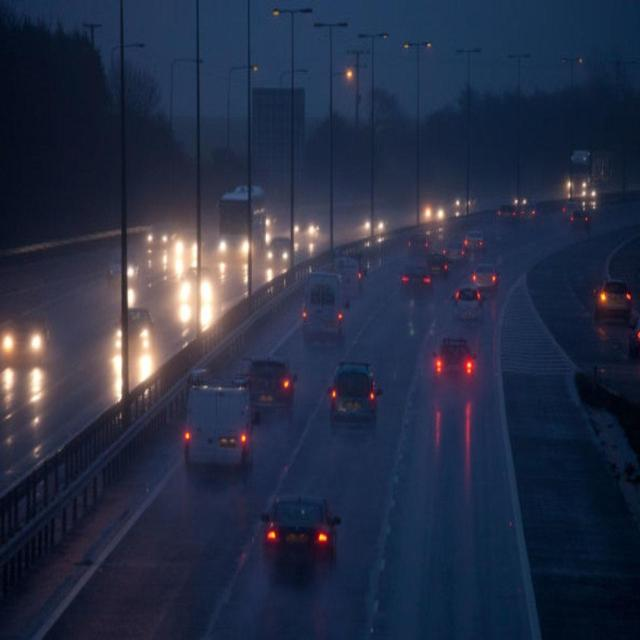Bus: (214, 181, 268, 265), (568, 146, 594, 198)
Car: (263, 482, 337, 592), (324, 358, 381, 428), (241, 352, 296, 415), (1, 299, 44, 366), (590, 267, 634, 329), (113, 304, 160, 359), (433, 336, 478, 386), (177, 259, 213, 311), (104, 242, 138, 292), (454, 280, 484, 330), (399, 263, 436, 303), (149, 211, 176, 259), (177, 223, 201, 276), (265, 230, 295, 271), (292, 213, 322, 247), (567, 199, 591, 234), (471, 261, 498, 292), (494, 197, 518, 230), (406, 230, 431, 260), (362, 210, 388, 238), (422, 192, 444, 224), (462, 228, 484, 260), (441, 234, 465, 262), (426, 252, 450, 278)
Truck: (333, 250, 369, 298)
Van: (181, 377, 252, 468), (300, 267, 344, 344)
